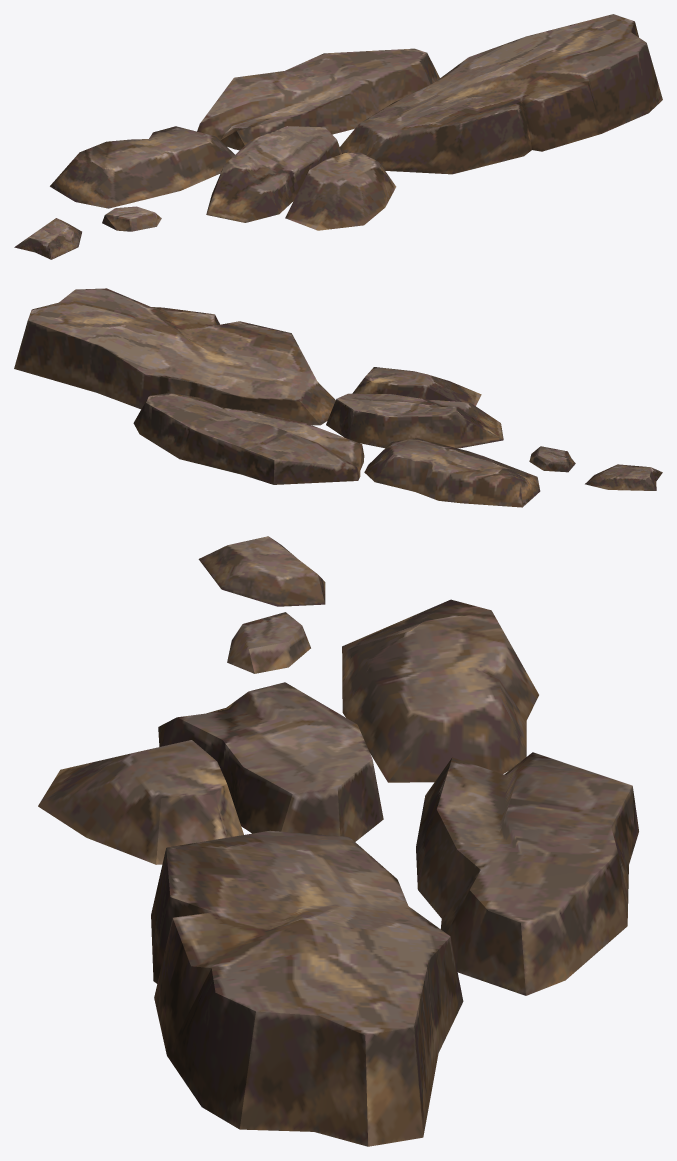
File: xsm_shitou_11.FBX
3 views of the same model, one above another, from view 1: azimuth 30°, elevation 25°; view 2: azimuth 150°, elevation 25°; view 3: azimuth 270°, elevation 25° (orthographic). The views are drawn at different scales.
Parts seen in each view (by area): view 1: xsm_shitou_11; view 2: xsm_shitou_11; view 3: xsm_shitou_11.
Boxes of the visible parts, left/top/right/bottom form: xsm_shitou_11: left=14, top=14, right=662, bottom=259; xsm_shitou_11: left=14, top=288, right=662, bottom=507; xsm_shitou_11: left=38, top=536, right=638, bottom=1146.
Bounding box in the file's own units: 74.48 × 6.18 × 31.46.
